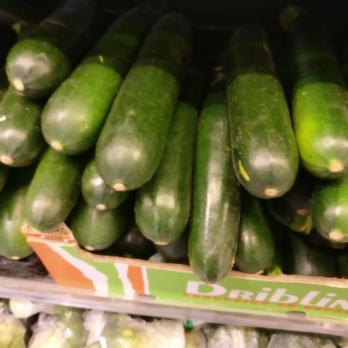Cucumber: (0, 2, 348, 269)
